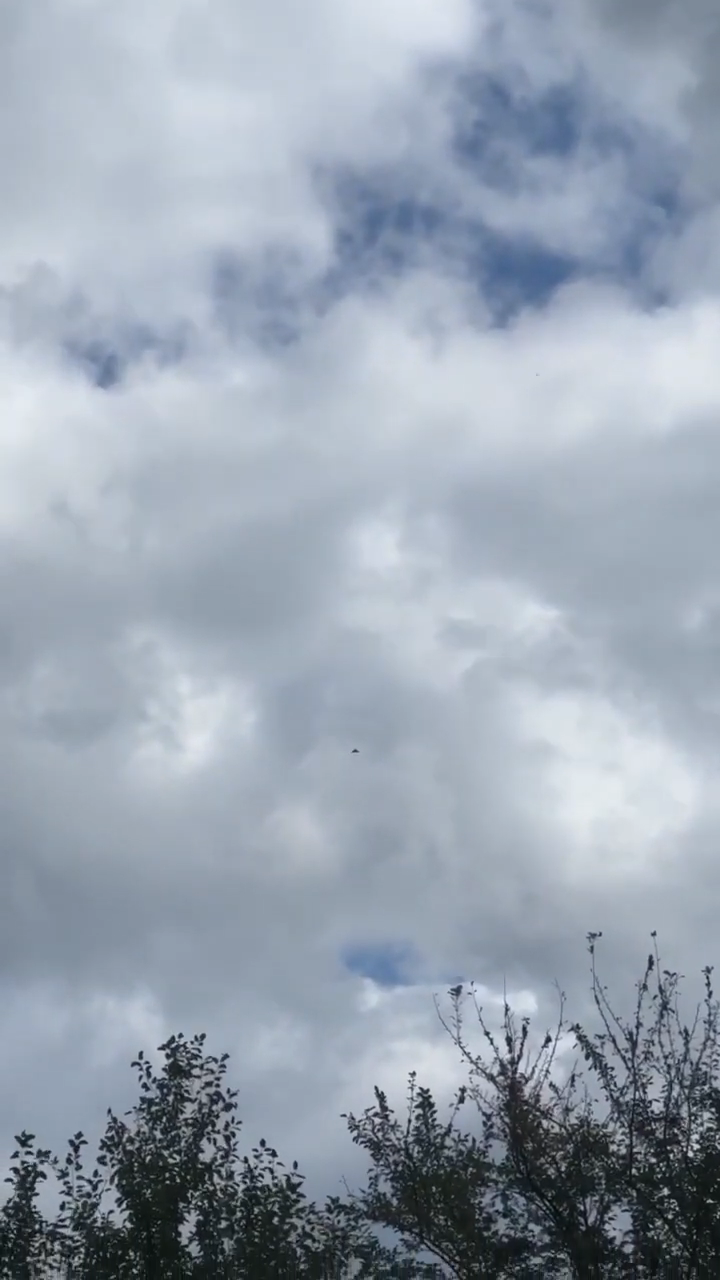shahed: (349, 747, 361, 755)
